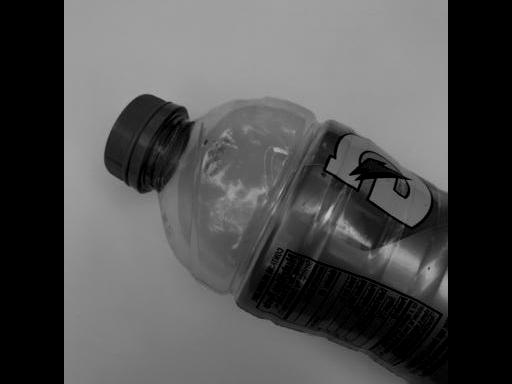bottle: (97, 81, 447, 384)
